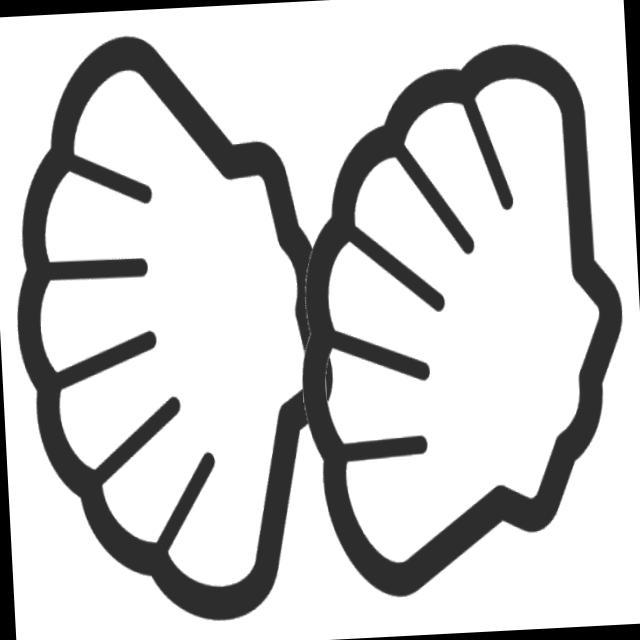shell: (1, 11, 354, 640), (274, 31, 640, 609)
